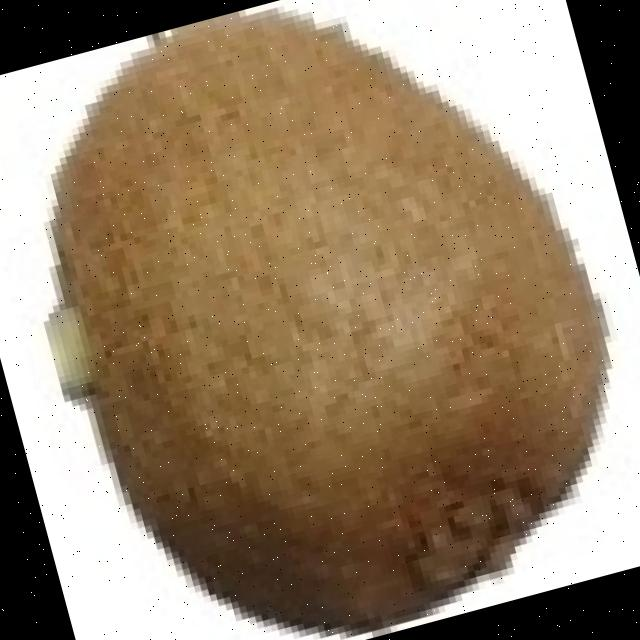kiwi: (59, 4, 612, 617)
